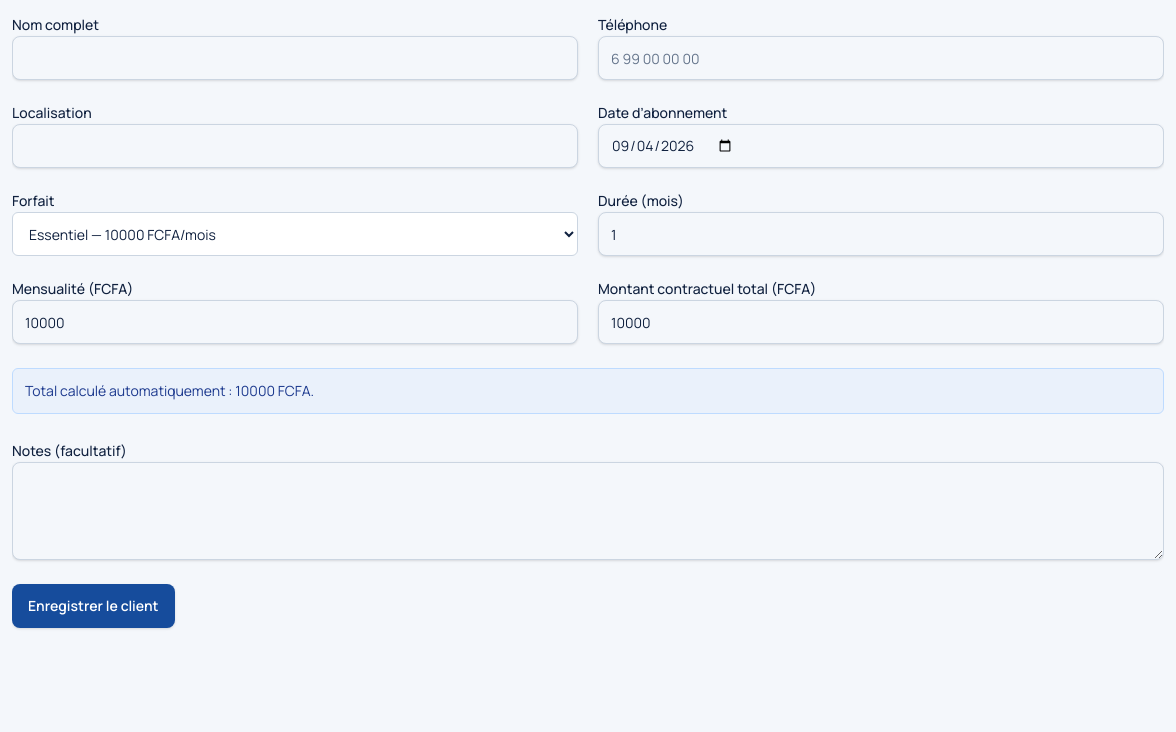
ClientForm › propose le total calculé puis signale clairement une valeur personnalisée
Expected: the field labelled "Mensualité (FCFA)" holds "10000", [12,300,578,344]
Replace the text in the field labelled "Durée (mois)" with "3": (881, 234) [598,212,1164,256]
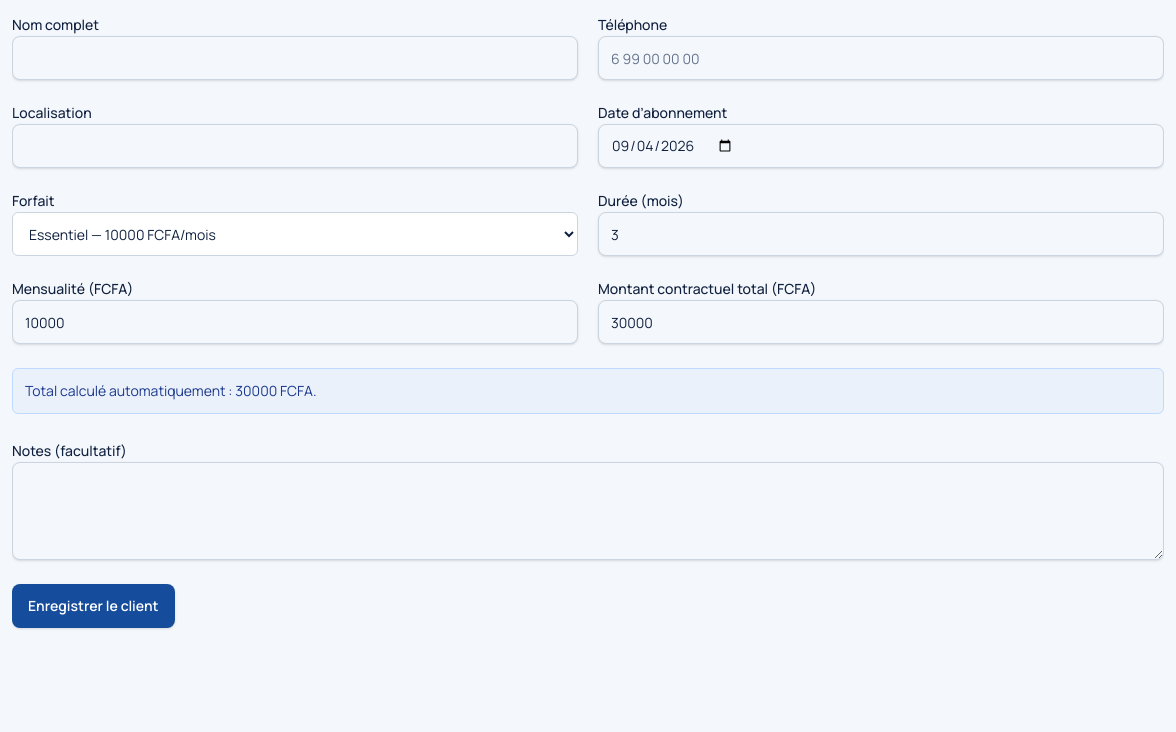
Result: the field labelled "Montant contractuel total (FCFA)" holds "30000"
Replace the text in the field labelled "Montant contractuel total (FCFA)" with "25000": (881, 322) [598,300,1164,344]
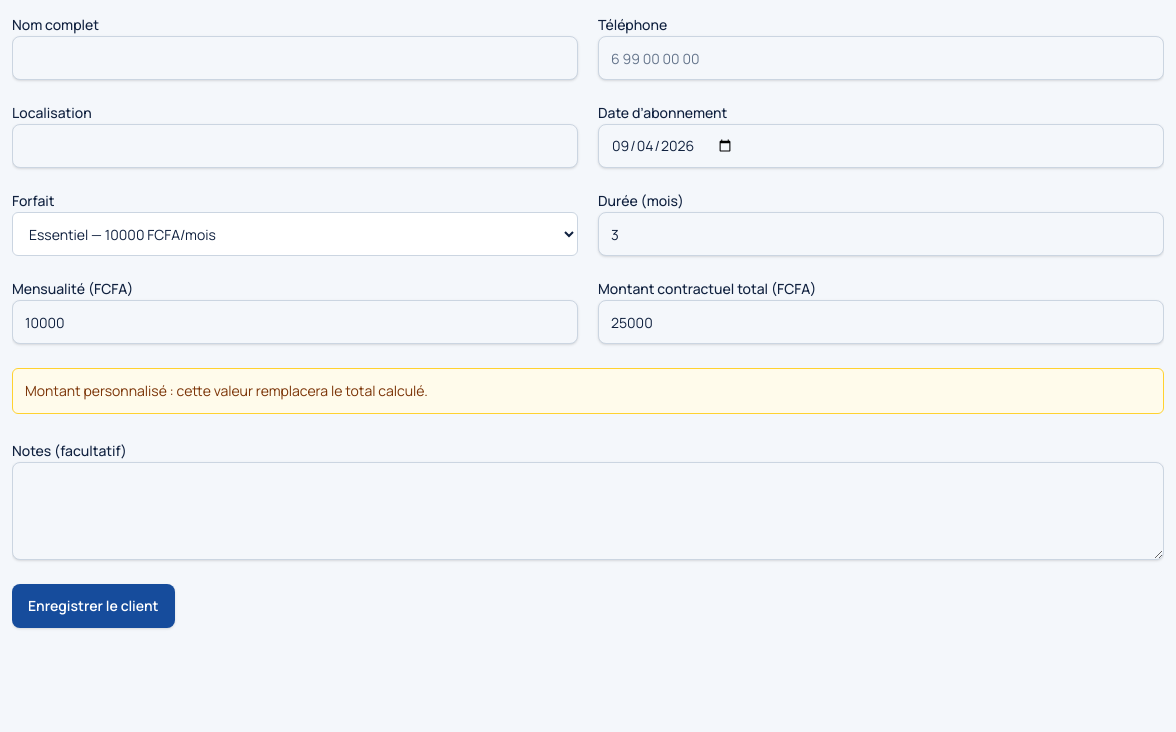
Result: the message shows "Montant personnalisé" at [25,381,428,400]
